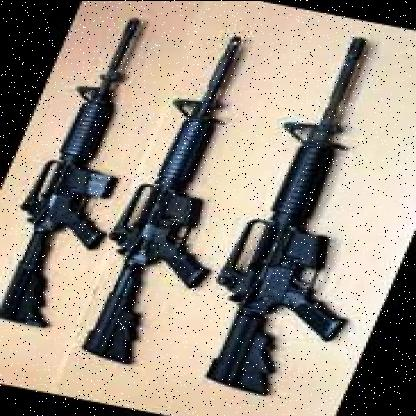rifle: (179, 31, 416, 412), (67, 26, 304, 376), (0, 6, 200, 340)
